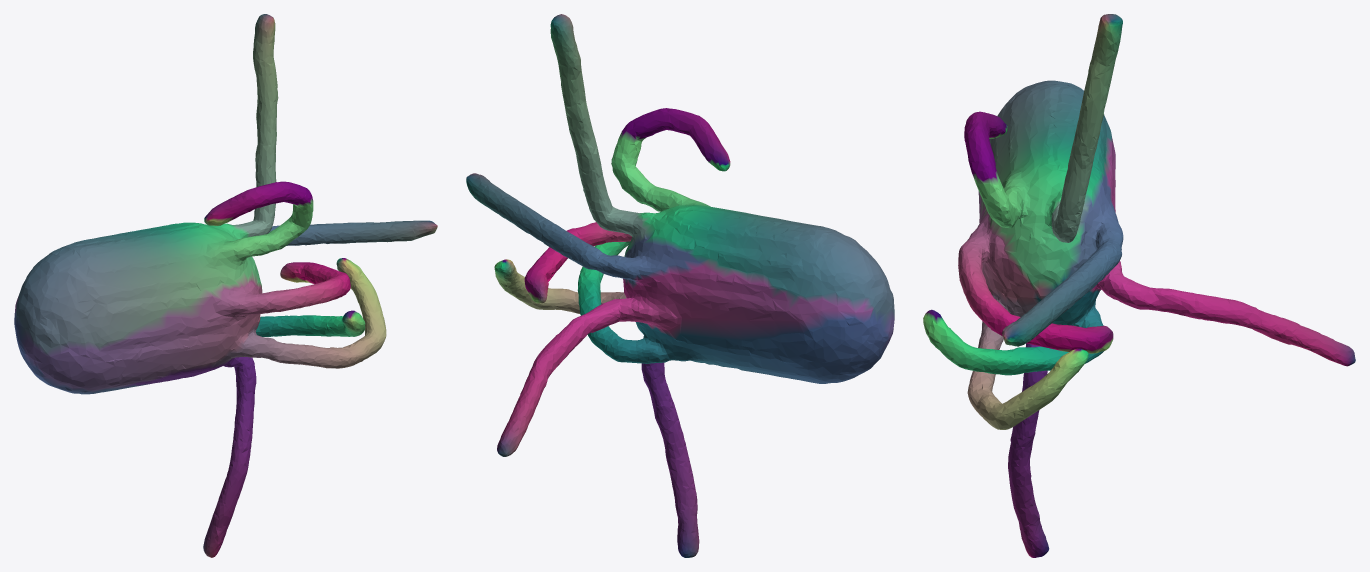
File: octopus-13.off.obj
3 views of the same model, side by side, from view 1: azimuth 30°, elevation 25°; view 2: azimuth 150°, elevation 25°; view 3: azimuth 270°, elevation 25° (orthographic). The views are drawn at different scales.
Bounding box in the file's own units: 1.46 × 1.75 × 1.16.
